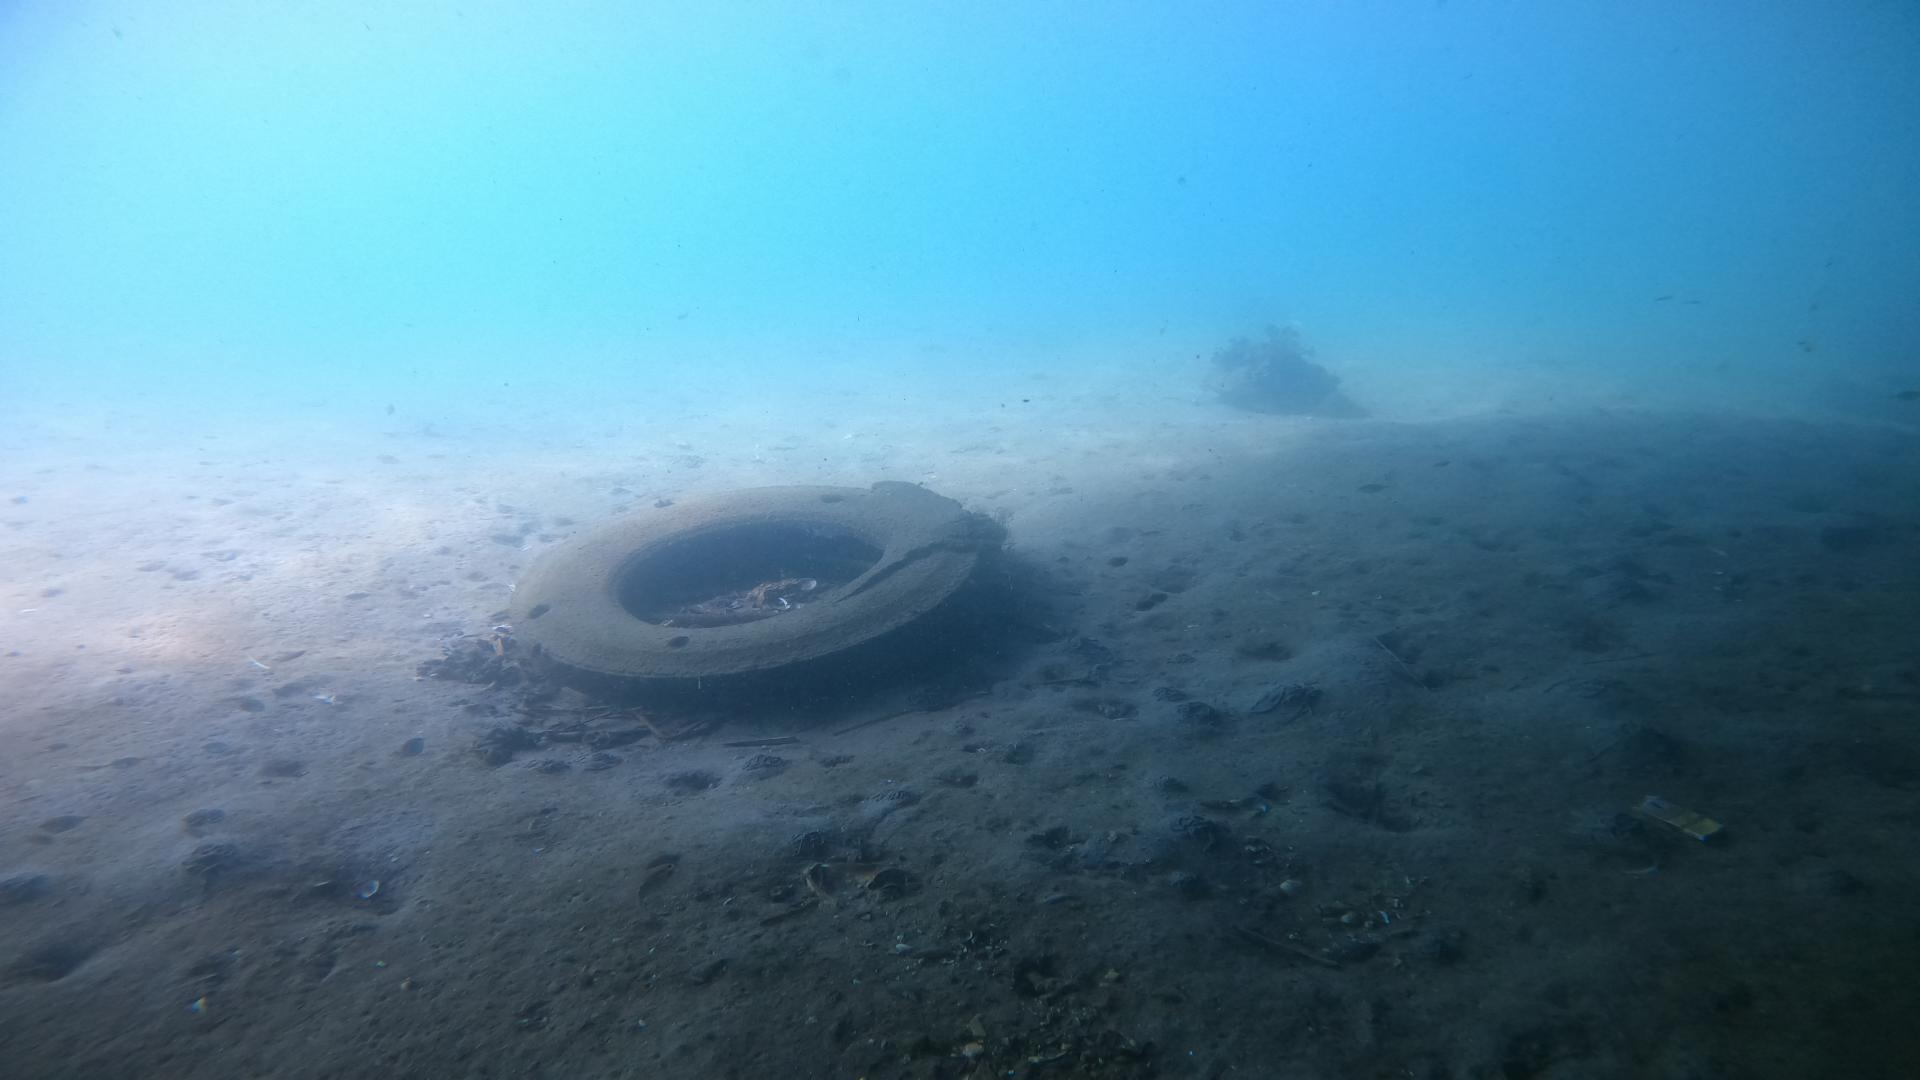tire: (516, 483, 985, 711)
